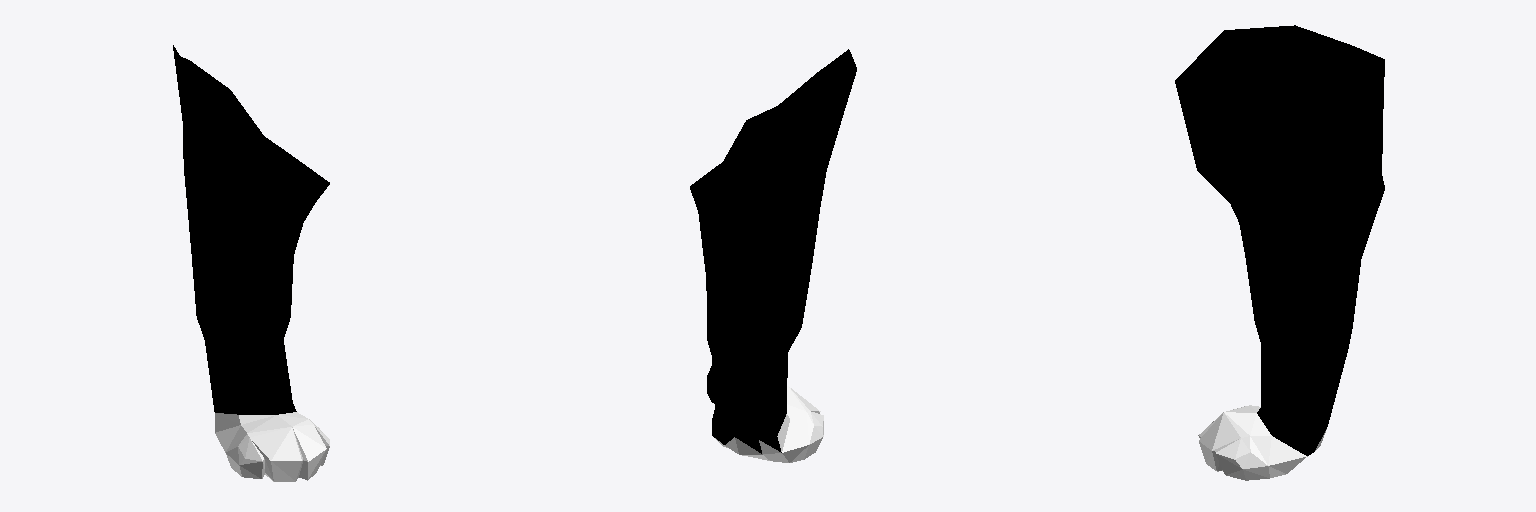
The picture shows the model from 3 angles: view 1: azimuth 30°, elevation 25°; view 2: azimuth 150°, elevation 25°; view 3: azimuth 270°, elevation 25°; orthographic projection.
Visible parts, largest first — view 1: cat_01_color05.001; view 2: cat_01_color05.001; view 3: cat_01_color05.001.
Boxes of the visible parts, x1,y1,x2,y2 form: cat_01_color05.001: [173, 45, 329, 481]; cat_01_color05.001: [690, 49, 856, 462]; cat_01_color05.001: [1175, 25, 1384, 480].
Bounding box in the file's own units: 0.2851 × 0.957 × 0.4499.
Materials: 2 (2 with a texture image).